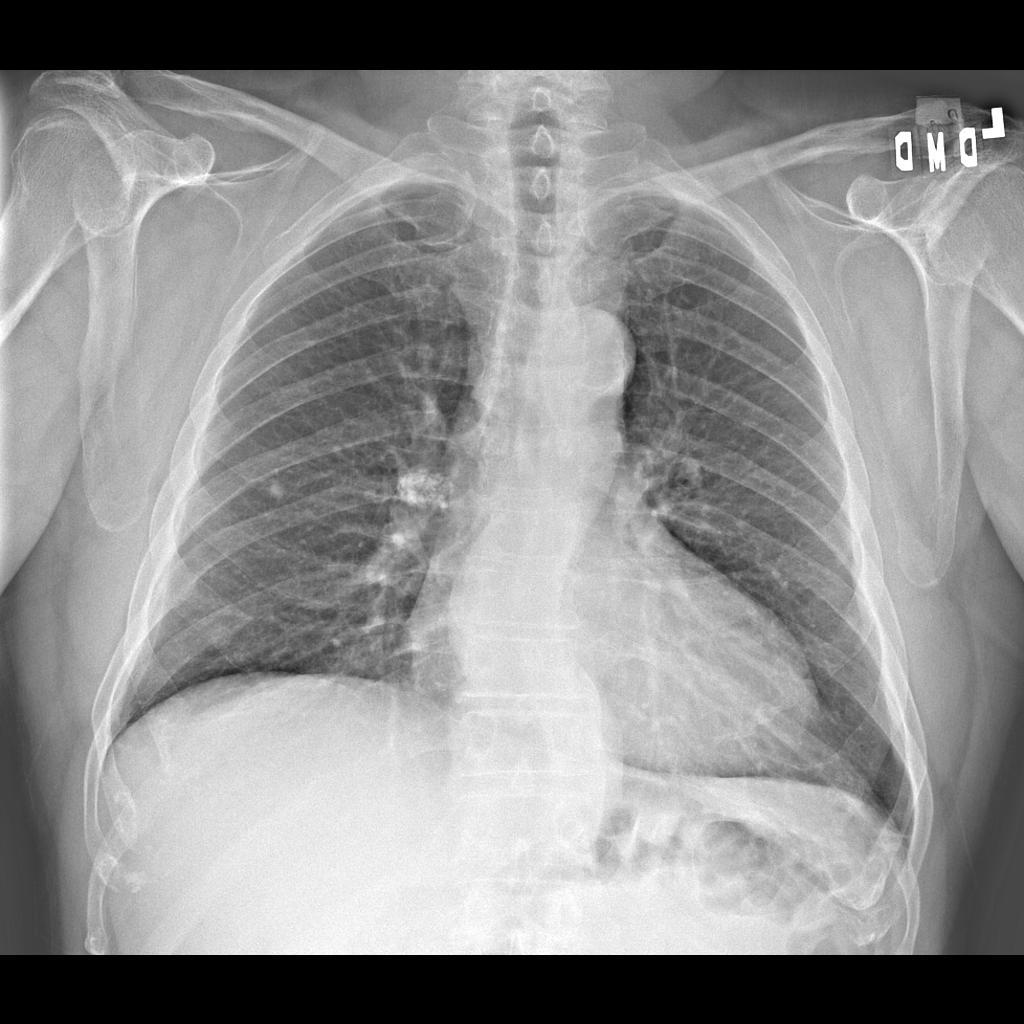Nodule: (266, 478, 293, 505)
